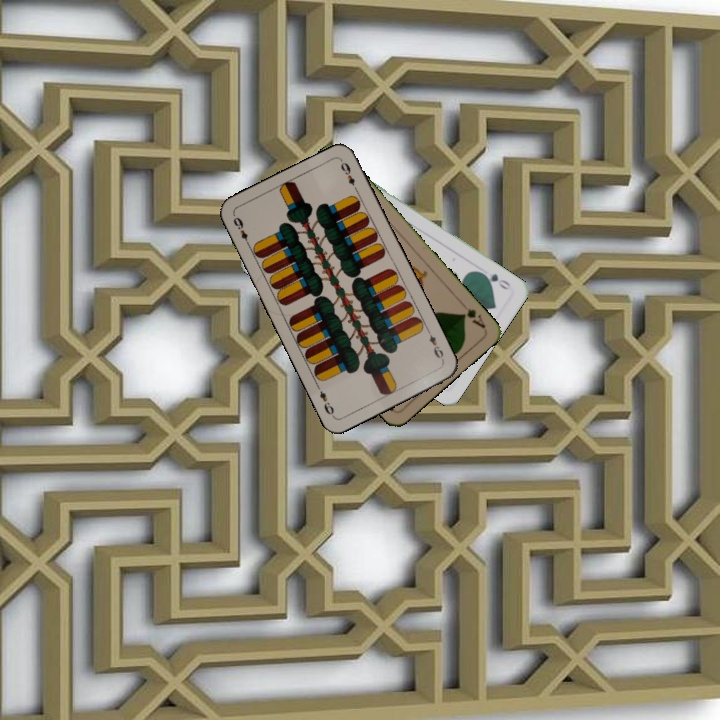E9: (423, 326, 447, 364), (229, 213, 253, 250)
GA: (458, 297, 488, 331)
GO: (476, 268, 513, 293)
